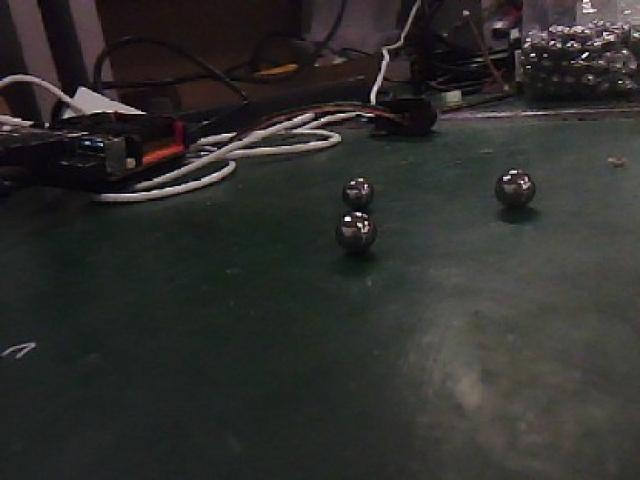steel-ball: (478, 148, 544, 217), (323, 198, 385, 260), (329, 164, 391, 210)
